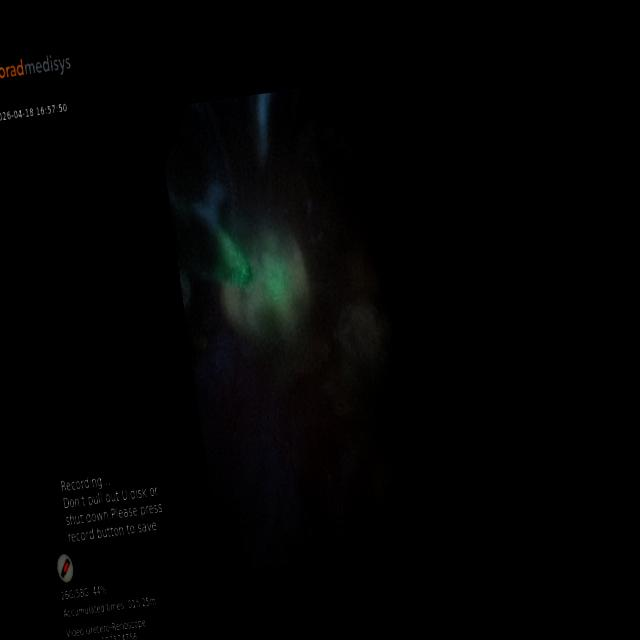laser-fibre: (168, 195, 244, 286)
laser_dot: (263, 255, 288, 300)
stone-new: (221, 226, 311, 351), (335, 298, 389, 413)
